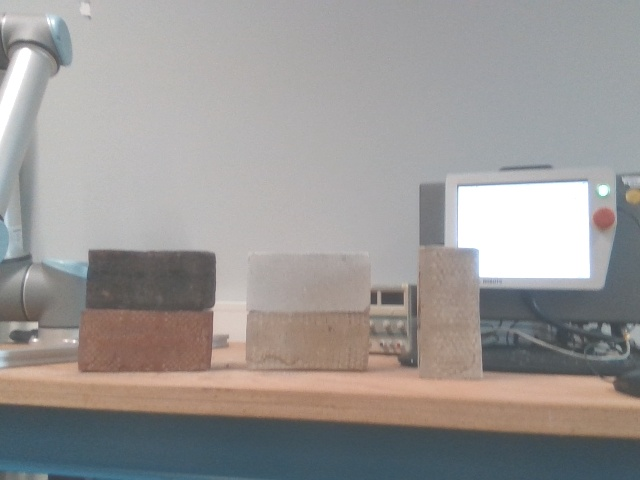brick: (419, 247, 480, 379), (81, 312, 212, 371), (89, 251, 212, 310), (250, 254, 368, 311), (250, 316, 368, 365)
